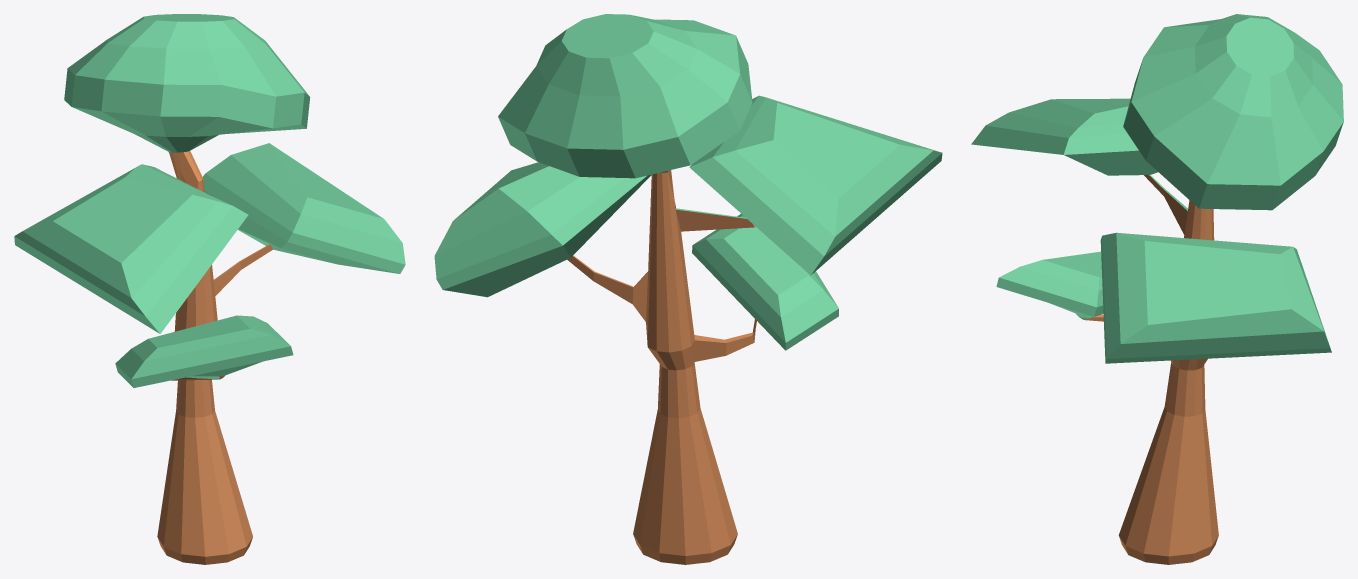
Rendered from arbol.fbx.
3 views of the same model, side by side, from view 1: azimuth 30°, elevation 25°; view 2: azimuth 150°, elevation 25°; view 3: azimuth 270°, elevation 25° (orthographic). The views are drawn at different scales.
Visible parts, largest first — view 1: Cone; view 2: Cone; view 3: Cone.
Boxes of the visible parts, x1=… form: Cone: x1=14, y1=14, x2=405, y2=564; Cone: x1=434, y1=14, x2=942, y2=564; Cone: x1=971, y1=14, x2=1343, y2=564.
Size of the model in its own units: 668 by 1035 by 724.
